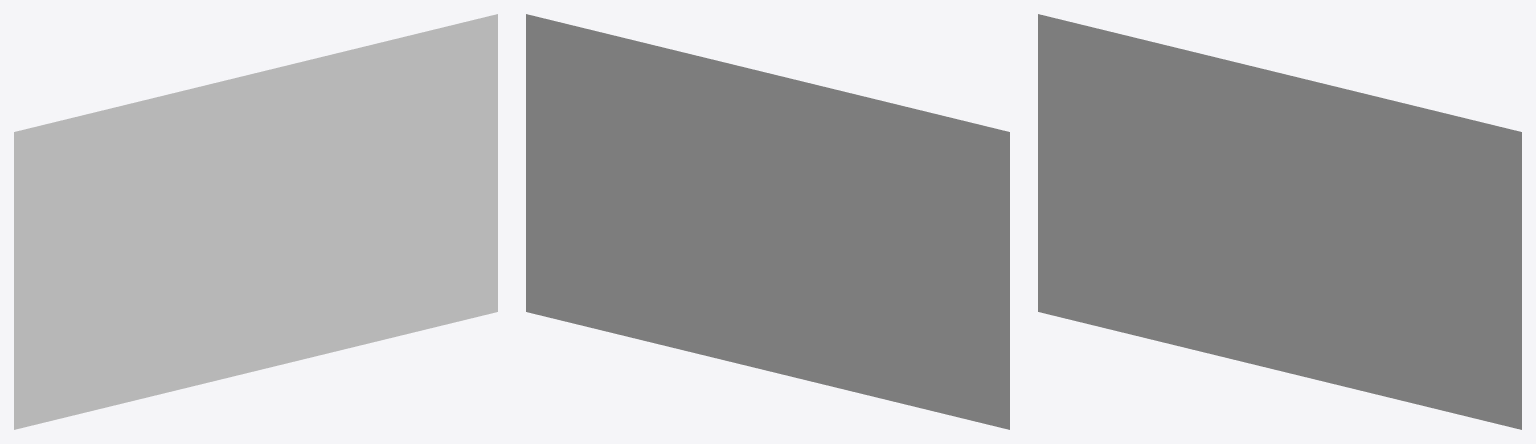
Rendered from Itr_Wall_Color_01.FBX.
3 views of the same model, side by side, from view 1: azimuth 30°, elevation 25°; view 2: azimuth 150°, elevation 25°; view 3: azimuth 330°, elevation 25° (orthographic).
Parts seen in each view (by area): view 1: Itr_Wall_Color_01; view 2: Itr_Wall_Color_01; view 3: Itr_Wall_Color_01.
Boxes of the visible parts, <box> form: Itr_Wall_Color_01: <box>14,14,497,429</box>; Itr_Wall_Color_01: <box>526,14,1009,429</box>; Itr_Wall_Color_01: <box>1038,14,1521,429</box>.
Size of the model in its own units: 118 by 69.49 by 3.05e-05.
